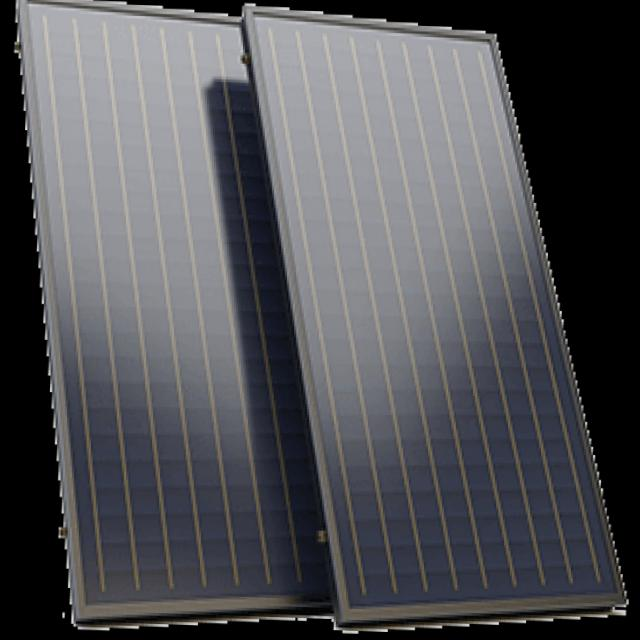no faulty: (252, 10, 615, 604), (30, 6, 329, 603)
